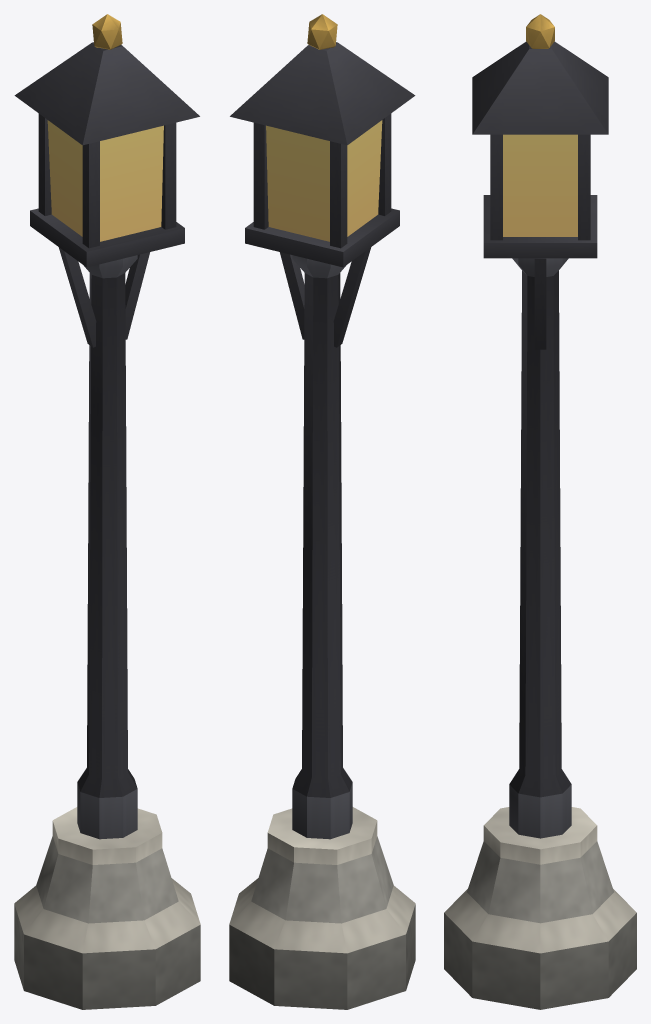
Rendered from prop_lamp_street_01.glb.
3 views of the same model, side by side, from view 1: azimuth 30°, elevation 25°; view 2: azimuth 150°, elevation 25°; view 3: azimuth 270°, elevation 25° (orthographic).
Parts seen in each view (by area): view 1: prop_lamp_street_01; view 2: prop_lamp_street_01; view 3: prop_lamp_street_01.
Part boxes in pixels (box(x1,y1,x2,y2)): prop_lamp_street_01: box(14, 14, 200, 1009); prop_lamp_street_01: box(229, 14, 415, 1009); prop_lamp_street_01: box(444, 14, 636, 1009).
Bounding box in the file's own units: 0.68 × 3.72 × 0.68.
Materials: 1 (1 with a texture image).
